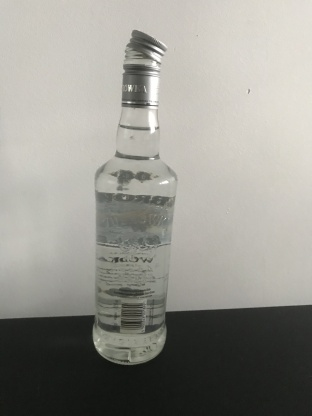nakretka: (120, 27, 168, 110)
